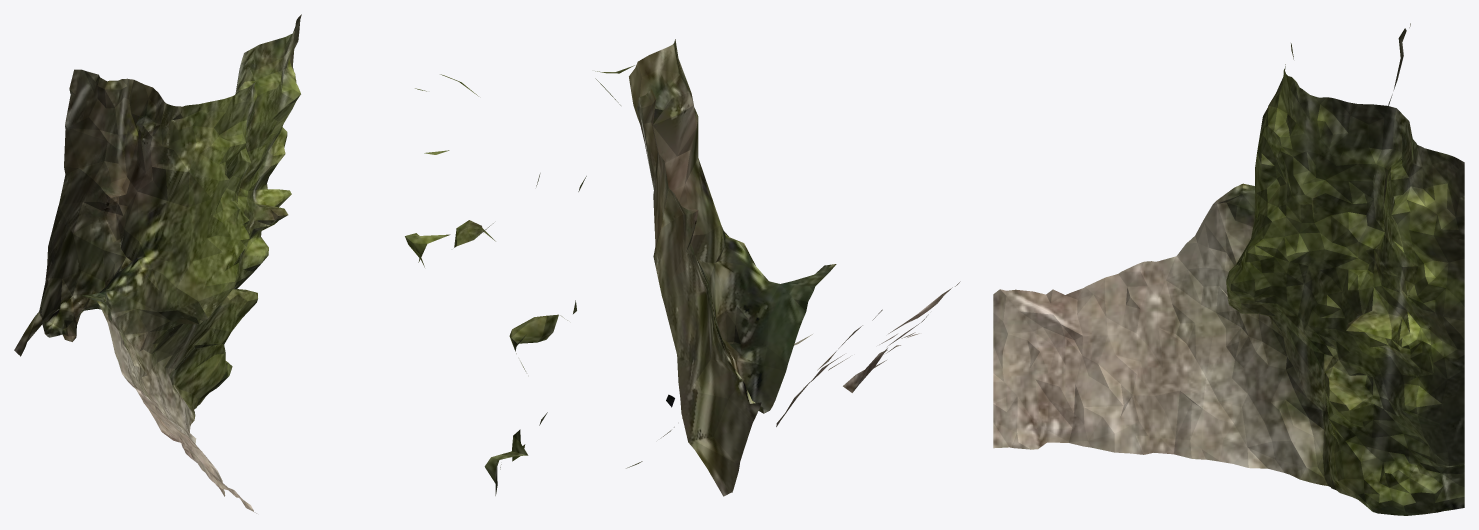
The picture shows the model from 3 angles, left to right: view 1: azimuth 30°, elevation 25°; view 2: azimuth 150°, elevation 25°; view 3: azimuth 270°, elevation 25°; orthographic projection. The views are drawn at different scales.
Size of the model in its own units: 2.78 by 2.95 by 2.95.
Materials: 3 (3 with a texture image).
